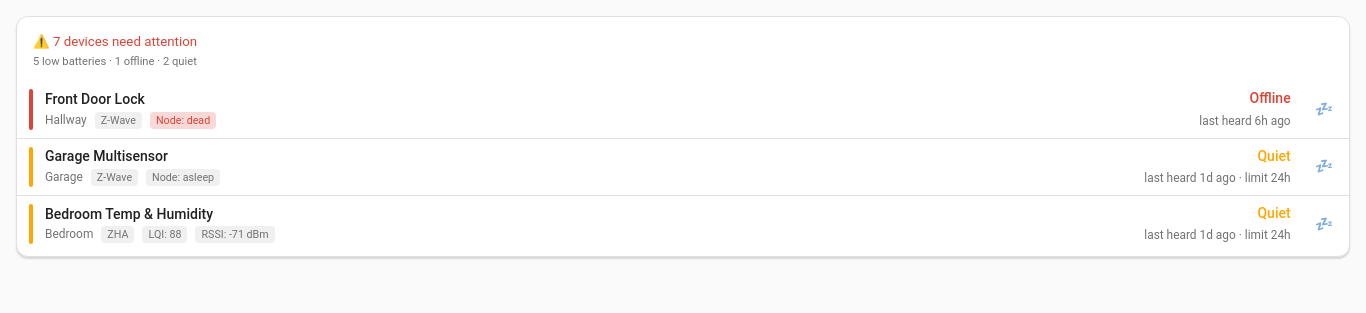
it: App, when a row action fails › says so when a snooze is refused
Check: the text "⚠️ 7 devices need attention" is shown, box [33, 33, 197, 52]
Click the button named "Snooze Front Door Lock" at x=1324, y=109, box [1307, 94, 1341, 125]
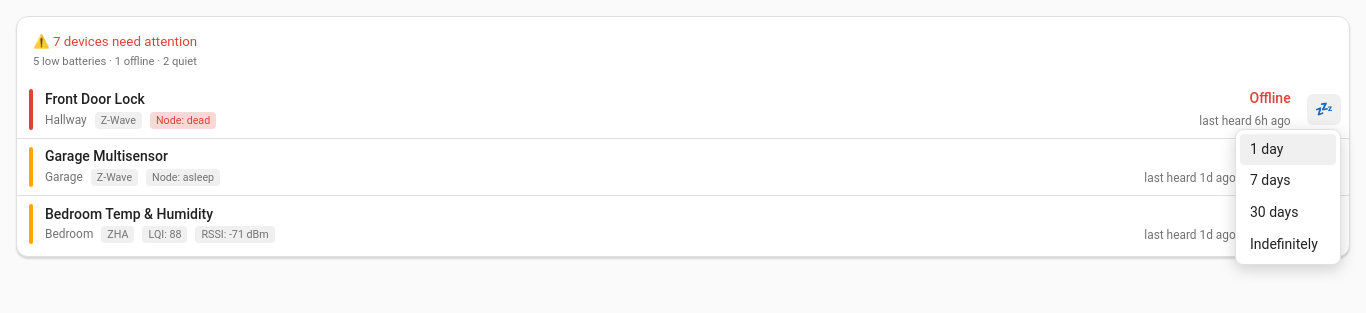
Click the menu item "7 days" at x=1288, y=181, box [1240, 165, 1336, 197]
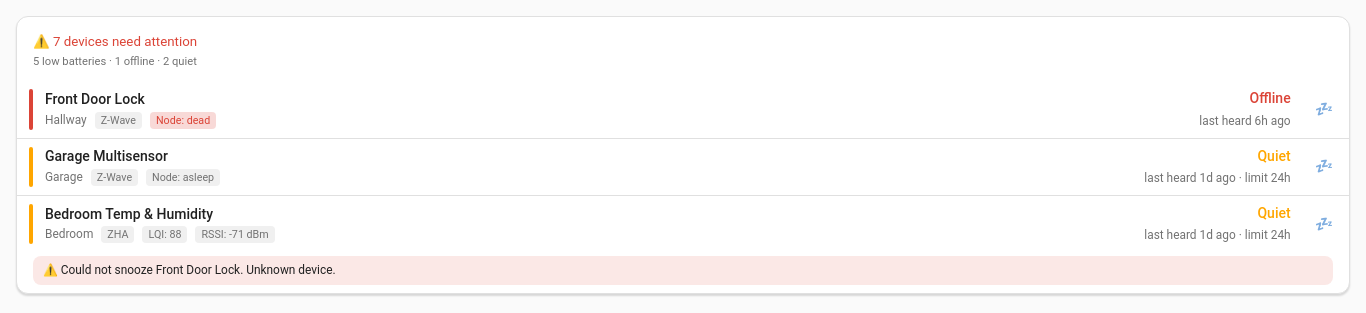
Check: the message shows "Could not snooze Front Door Lock. Unknown device.", box [33, 256, 1333, 285]
